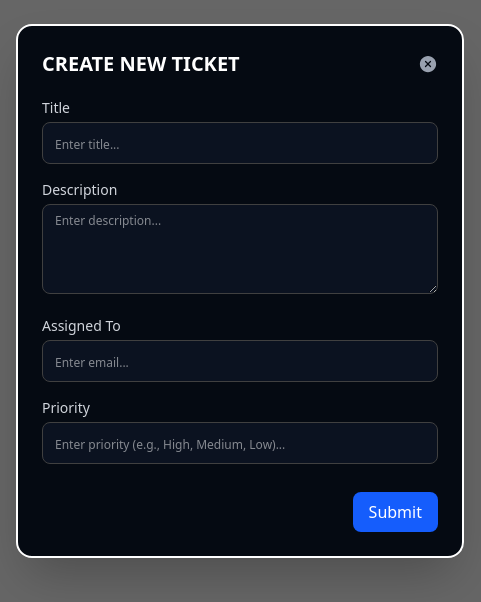
Test: Form › shows error message for title that is too long
Type "This title is way too long" into the field labelled "Title" at (240, 143), box [42,122,438,164]
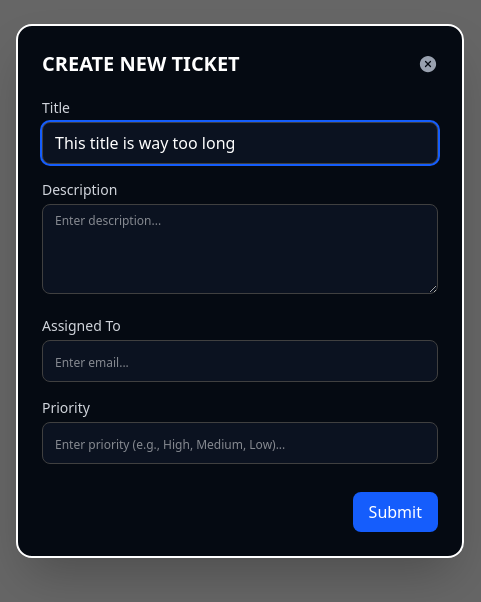
Type "Valid description with enough characters" into the text box labelled "Description" at (240, 249), box [42,204,438,294]
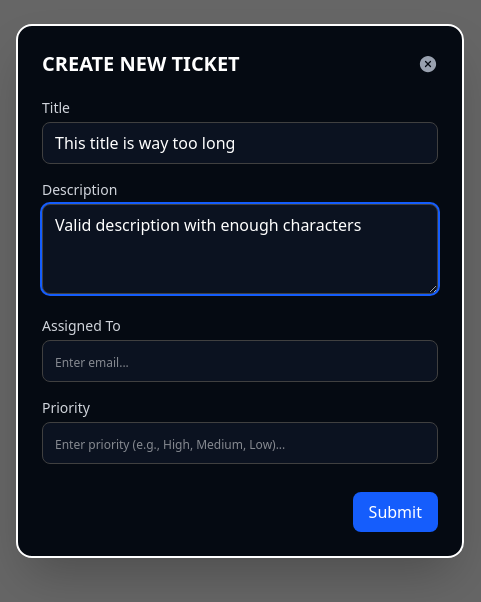
Type "user@example.com" into the field labelled "Assigned To" at (240, 361), box [42,340,438,382]
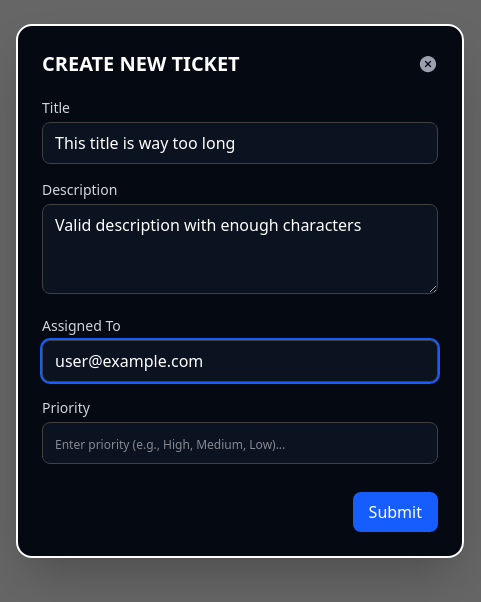
Type "LOW" into the field labelled "Priority" at (240, 443), box [42,422,438,464]
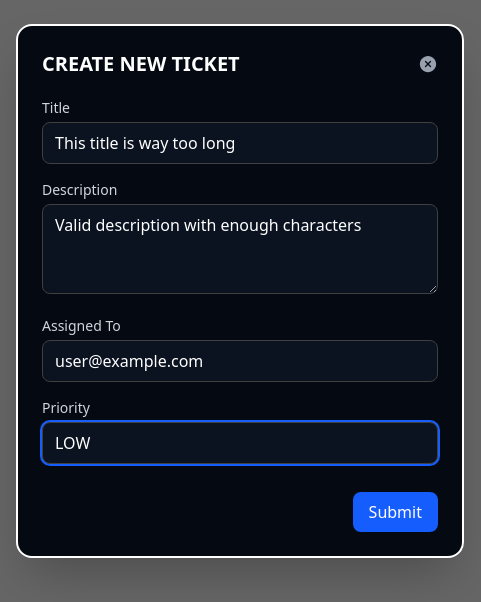
Click the button "Submit" at (395, 512), box [353,492,438,532]
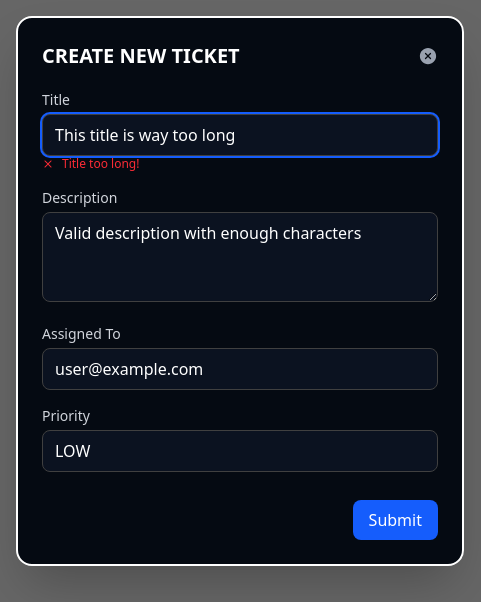
Result: the text "Title too long!" is shown at [42,155,139,172]
